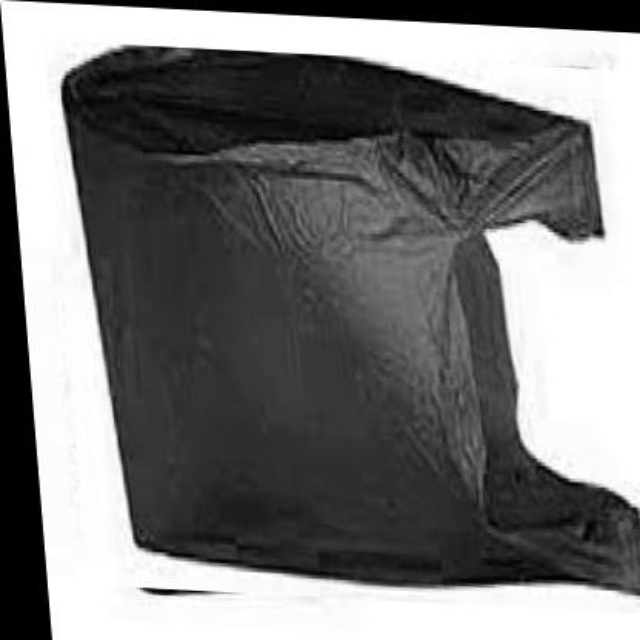trash: (63, 46, 638, 589)
